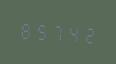eight: (18, 17, 33, 42)
five: (34, 18, 49, 43)
four: (66, 20, 81, 45)
seven: (50, 19, 65, 44)
two: (82, 21, 97, 46)
